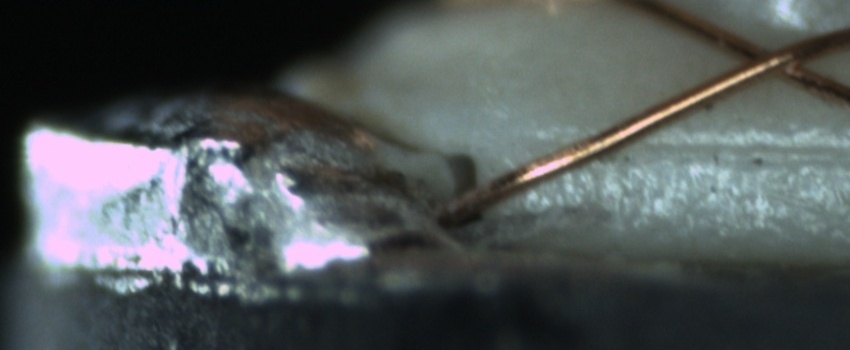CL: (704, 29, 830, 88)
DL: (553, 113, 843, 179)
